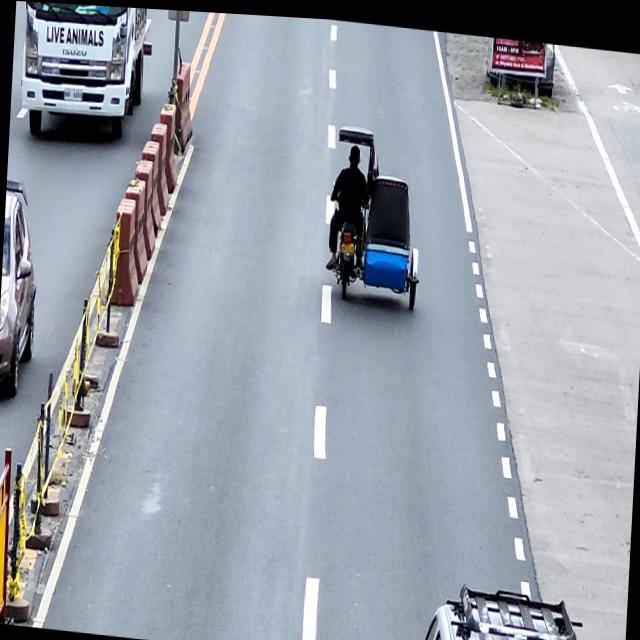Car: (394, 572, 598, 640), (0, 178, 42, 403)
License-Plate: (64, 88, 82, 100), (341, 239, 355, 251)
Tricycle: (328, 120, 427, 306)
Truck: (9, 0, 154, 144)
